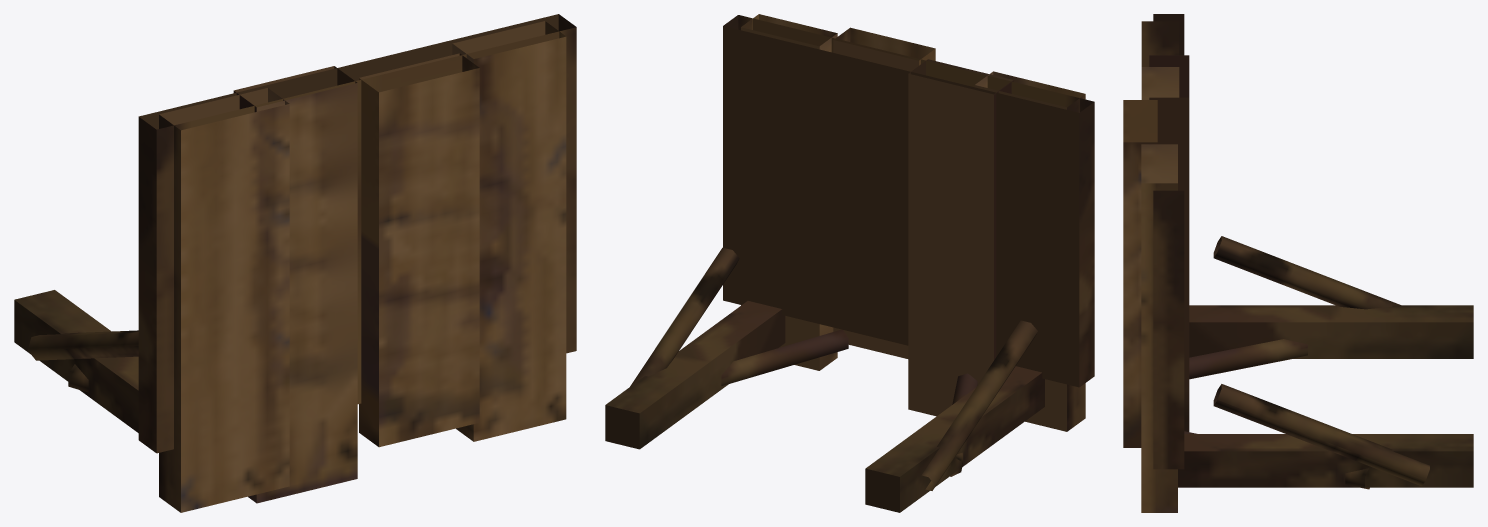
File: section-3.obj
3 renders of one model, left to right at view 1: azimuth 30°, elevation 25°; view 2: azimuth 150°, elevation 25°; view 3: azimuth 270°, elevation 25°, orthographic. The views are drawn at different scales.
Bounding box in the file's own units: 1.02 × 0.9168 × 0.8537.
